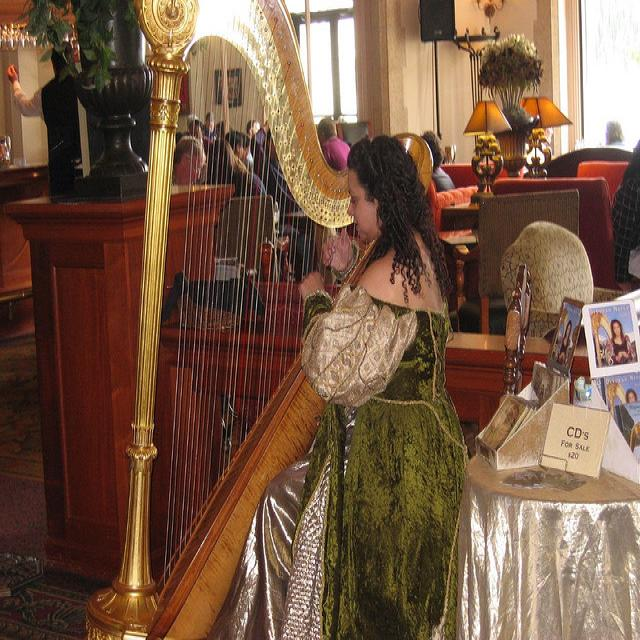harp: (82, 0, 434, 639)
